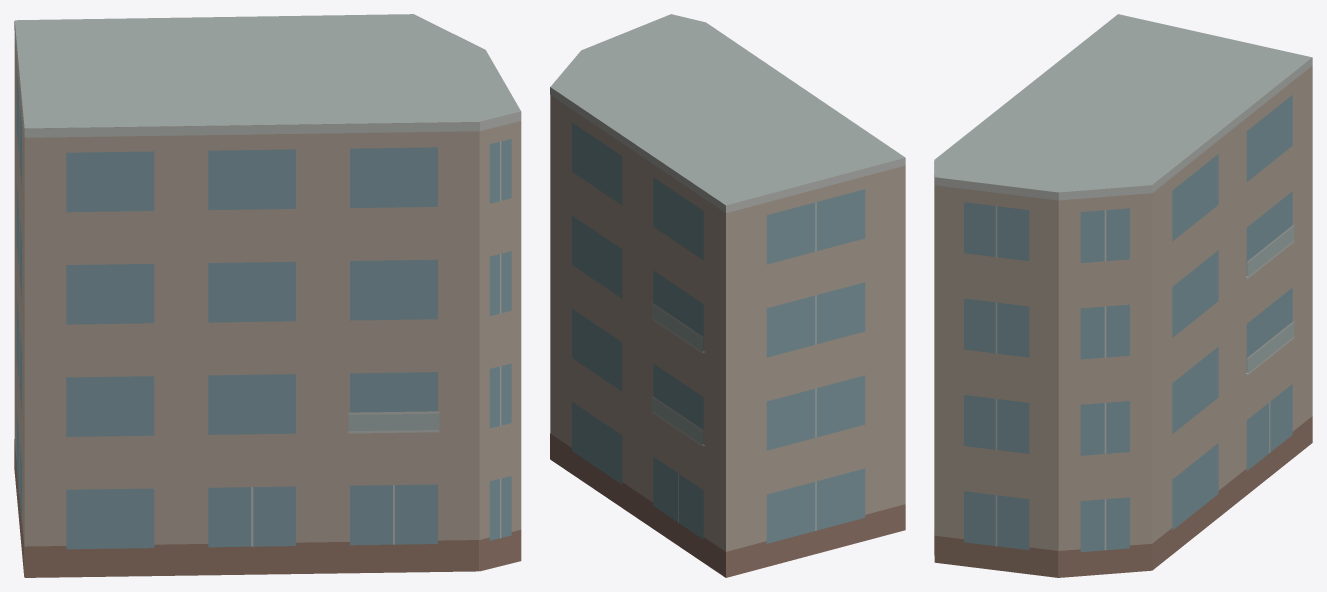
File: survey-upis-32727150.glb
The picture shows the model from 3 angles, left to right: view 1: azimuth 30°, elevation 25°; view 2: azimuth 150°, elevation 25°; view 3: azimuth 270°, elevation 25°; orthographic projection. The views are drawn at different scales.
Parts seen in each view (by area): view 1: survey-upis-32727150.tmp; view 2: survey-upis-32727150.tmp; view 3: survey-upis-32727150.tmp.
Boxes of the visible parts, x1,y1,x2,y2 form: survey-upis-32727150.tmp: (14, 14, 521, 577); survey-upis-32727150.tmp: (550, 14, 905, 577); survey-upis-32727150.tmp: (934, 14, 1312, 577).
Bounding box in the file's own units: 11.63 × 11.7 × 10.41.
